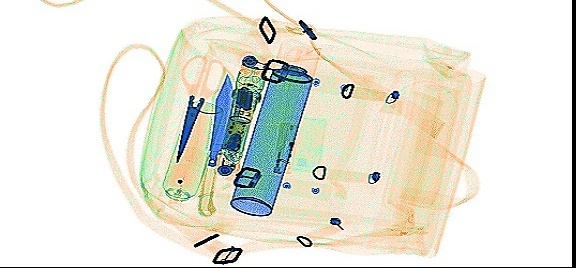knife: (196, 65, 235, 216)
lighter: (269, 119, 289, 174)
pressure: (228, 36, 319, 216), (161, 104, 223, 208)
scissors: (173, 52, 225, 161)
